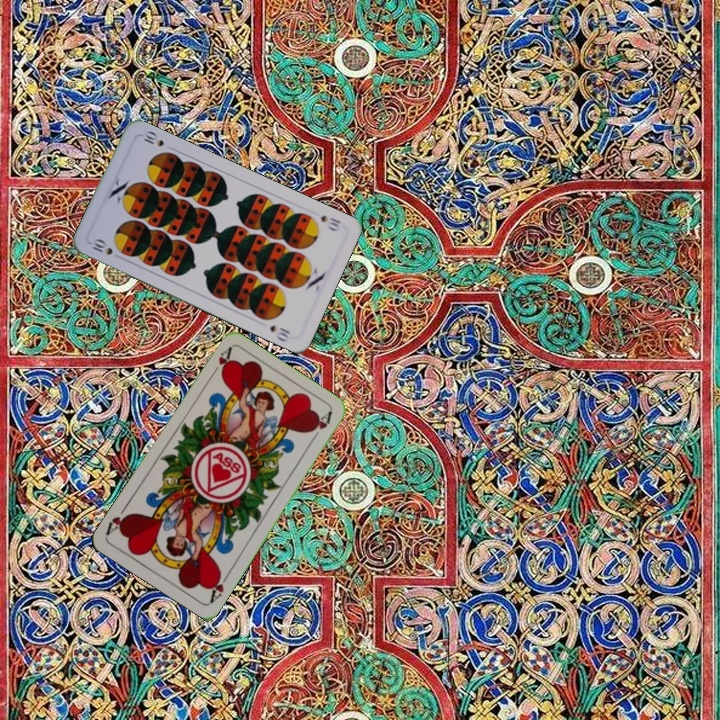HA: (206, 344, 234, 380), (206, 567, 232, 605)
S10: (86, 235, 116, 258), (316, 211, 344, 234)
